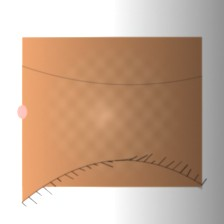pinguecula_lesion: (32, 101, 73, 134)
